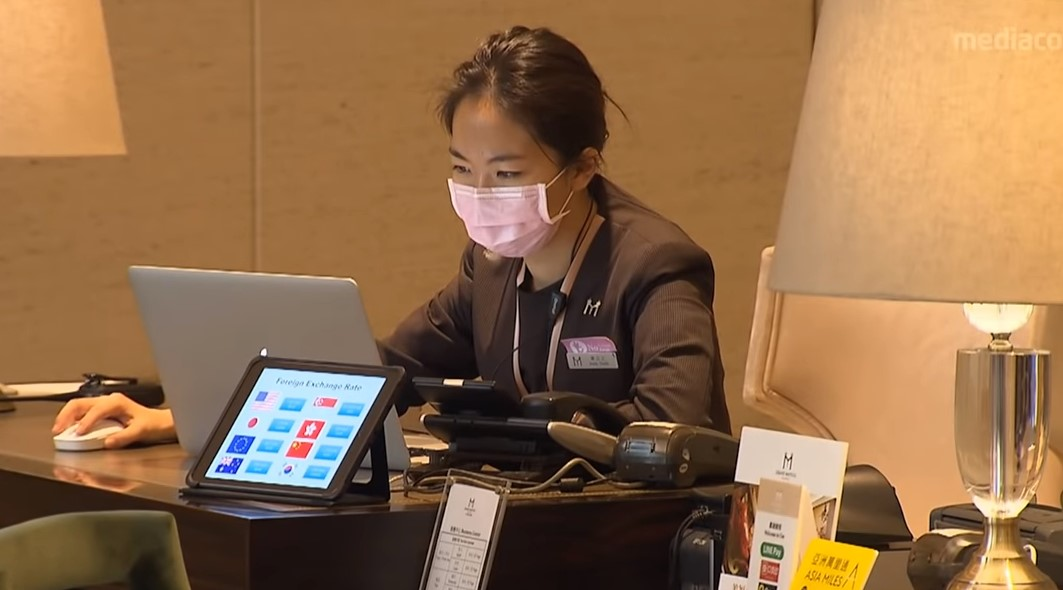face_with_mask: (447, 25, 606, 259)
